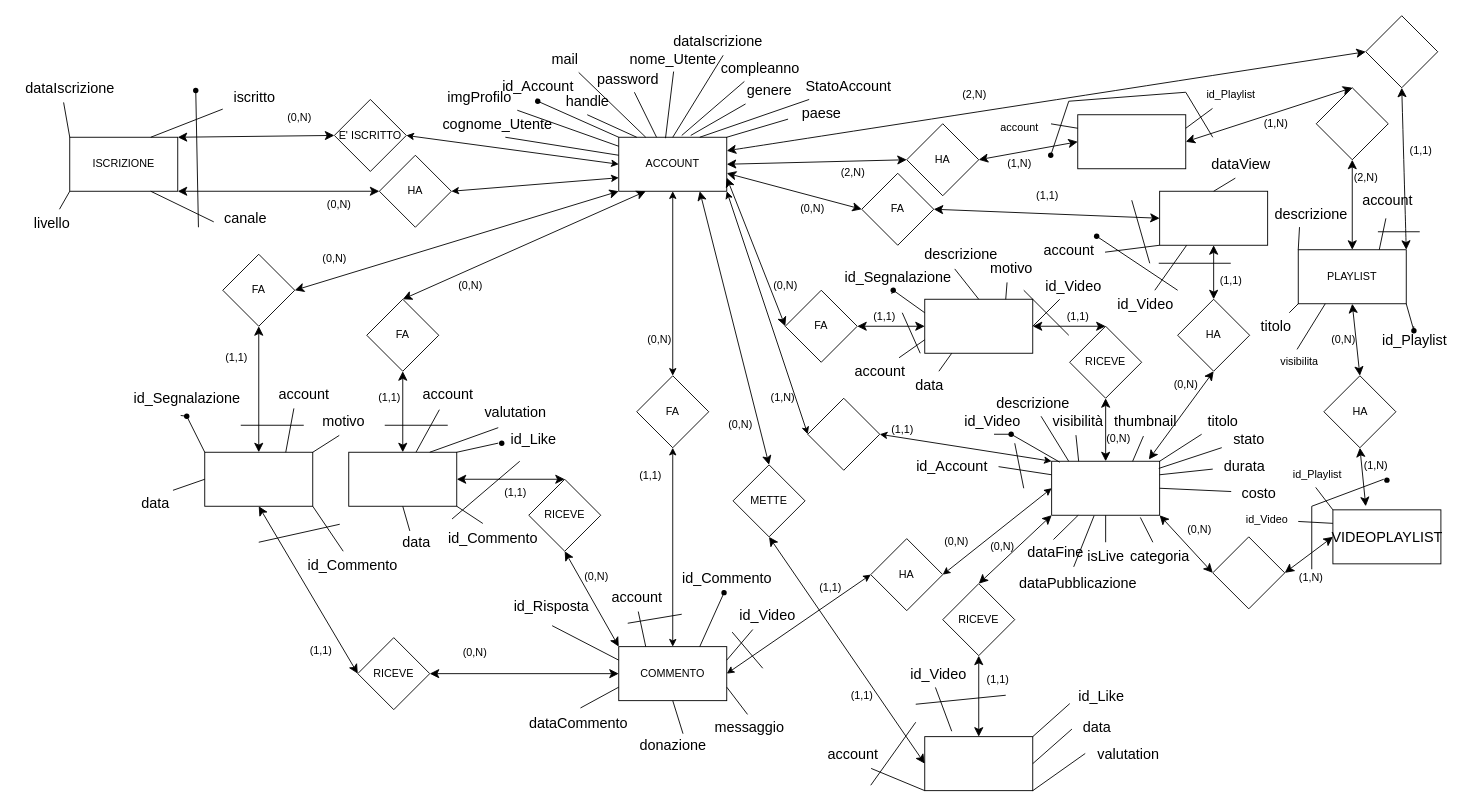
This 1474x807 diagram has some shape labels left out. The centre of each missing label's shape, as x and y in pixels:
APPARTIENE: point 843,433
CREA: point 1401,51
HA SALVATE: point 1351,123
IN: point 1248,572
LIKECOMMENTI: point 402,478
LIKEVIDEO: point 978,763
SAVEDPLAYLIST: point 1131,141
SEGNALAZIONE_ COMMENTI: point 258,478
SEGNALAZIONE_ VIDEO: point 978,325
VIDEO: point 1105,487
VIEWS: point 1213,217
